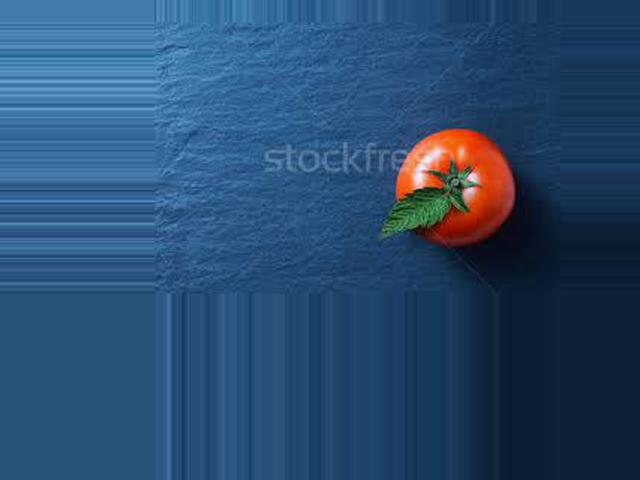tomato: (394, 129, 514, 244)
